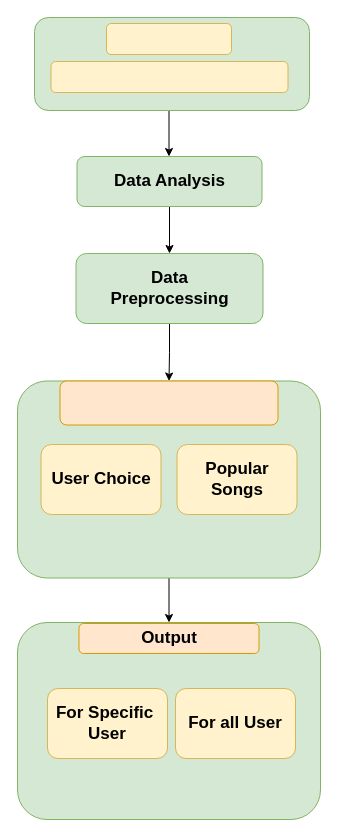
The diagram is 338 pixels wide and 837 high, and some of its shapes have lost their labels. Each missing label, with the centre of its shape:
"DataSet" goes at point 169,38.
"Recommendation Model" goes at point 168,402.
"Song data + User Data" goes at point 169,76.
